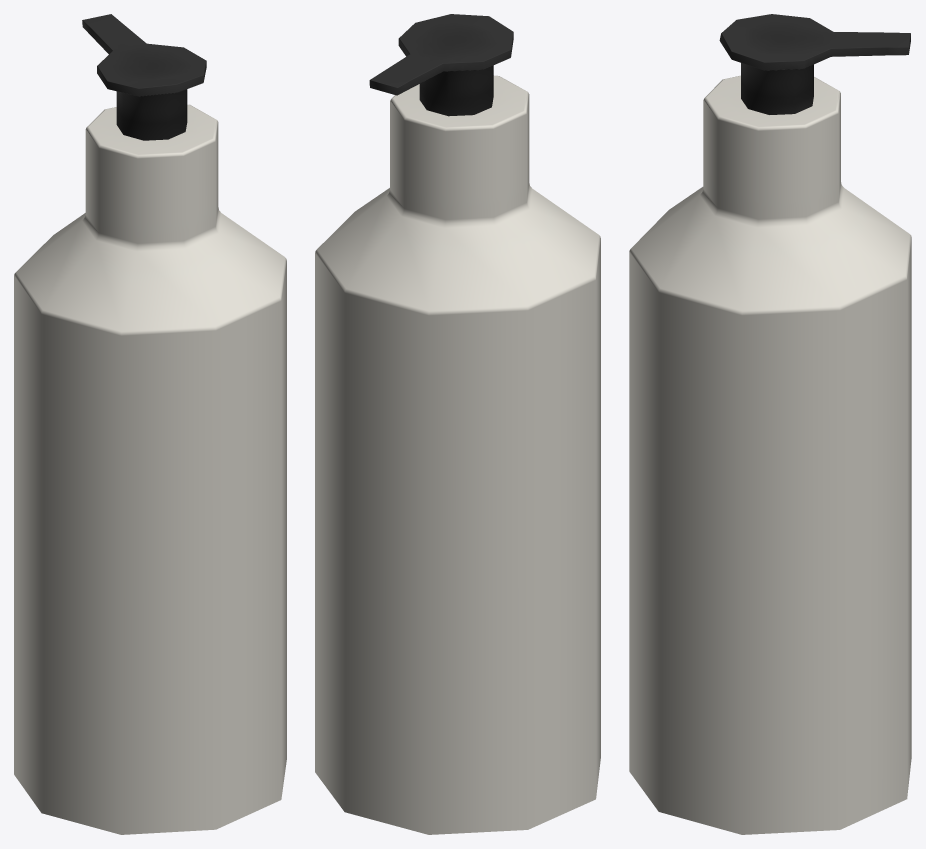
Rendered from Soap.fbx.
3 views of the same model, side by side, from view 1: azimuth 30°, elevation 25°; view 2: azimuth 150°, elevation 25°; view 3: azimuth 270°, elevation 25° (orthographic). The views are drawn at different scales.
Visible parts, largest first — view 1: Soap; view 2: Soap; view 3: Soap.
Part boxes in pixels (bbox=[...]): Soap: bbox=[14, 14, 286, 834]; Soap: bbox=[315, 14, 600, 834]; Soap: bbox=[629, 14, 911, 834].
Size of the model in its own units: 8 by 22.76 by 7.86.
1 material, 1 textured.
